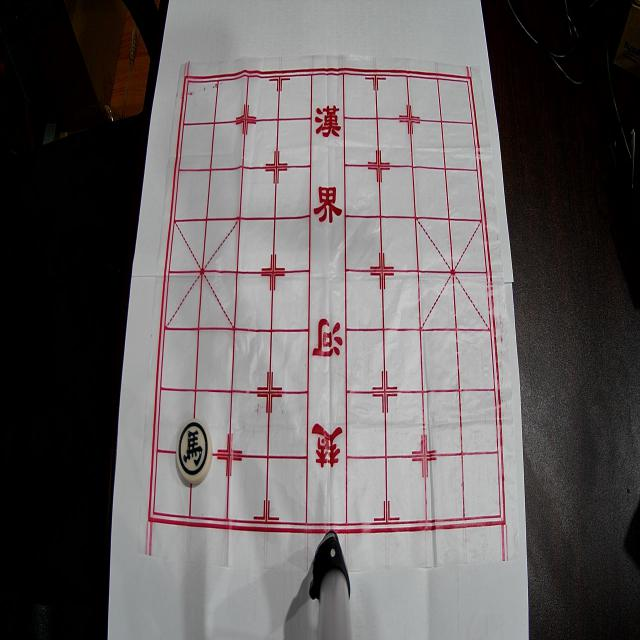black-horse: (176, 418, 212, 484)
